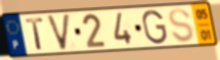2: (82, 12, 109, 50)
4: (113, 10, 134, 47)
G: (141, 9, 169, 46)
S: (168, 7, 196, 44)
T: (24, 16, 46, 51)
V: (45, 12, 72, 52)
